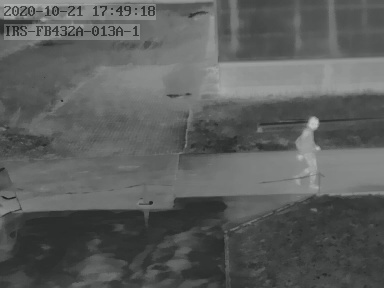person: (295, 115, 320, 189)
